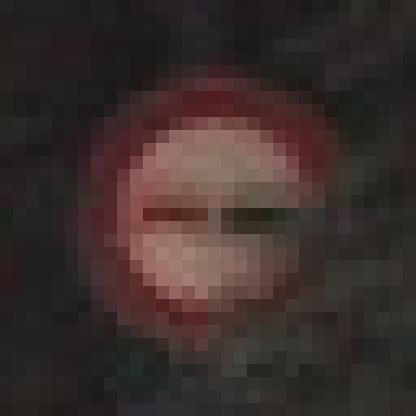No Overtaking: (66, 66, 352, 352)
